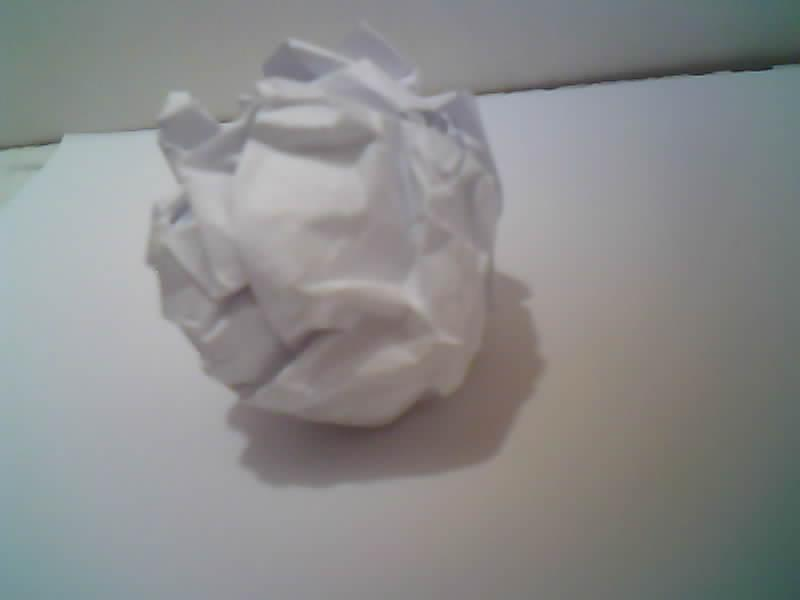biodegradable: (147, 26, 502, 425)
